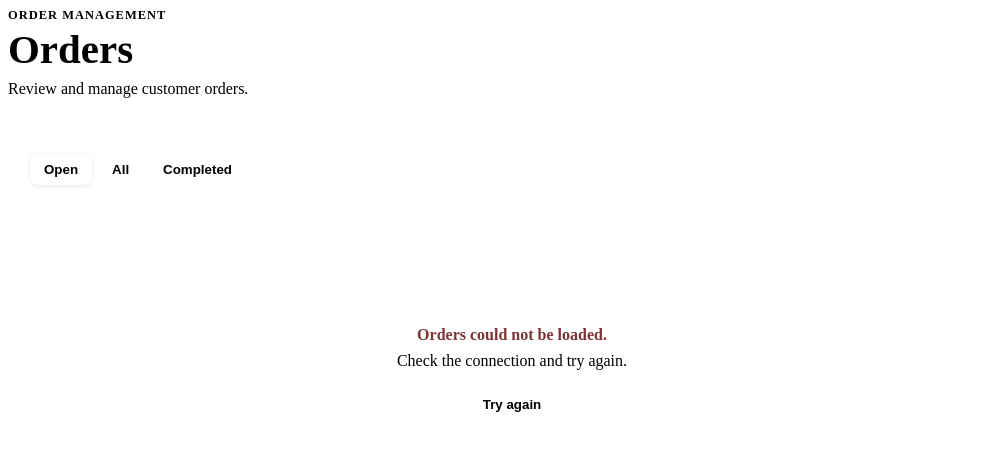
OrdersDashboard › shows a controlled error and successfully retries loading orders
Expected: the text "Orders could not be loaded." is shown, [417,326,607,344]
Click the button "Try again": [513, 406] box [467,389,558,422]
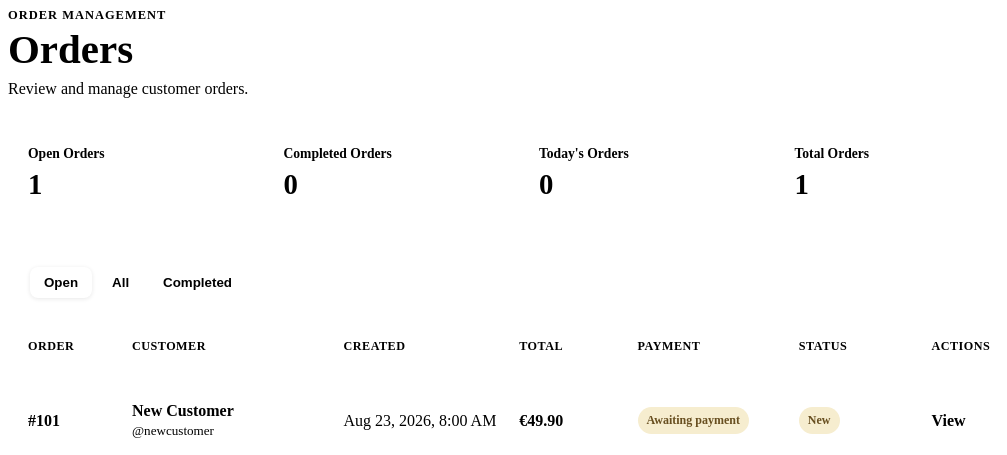
Result: the text "#101" is shown at [28,402,966,438]
Result: the text "Orders could not be loaded." is gone
